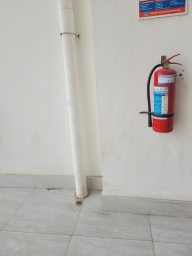fire_extinguisher: (40, 10, 100, 69), (51, 19, 100, 55)
